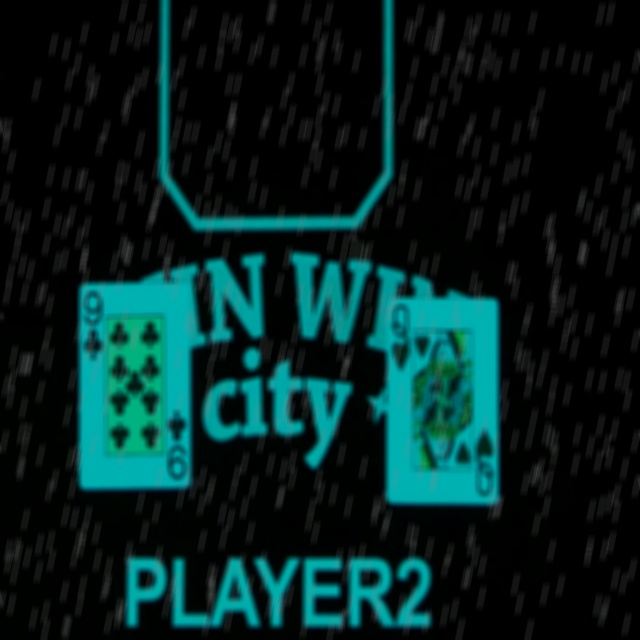9C: (163, 407, 190, 484), (79, 289, 104, 365)
QH: (474, 426, 502, 497), (388, 302, 414, 373)
